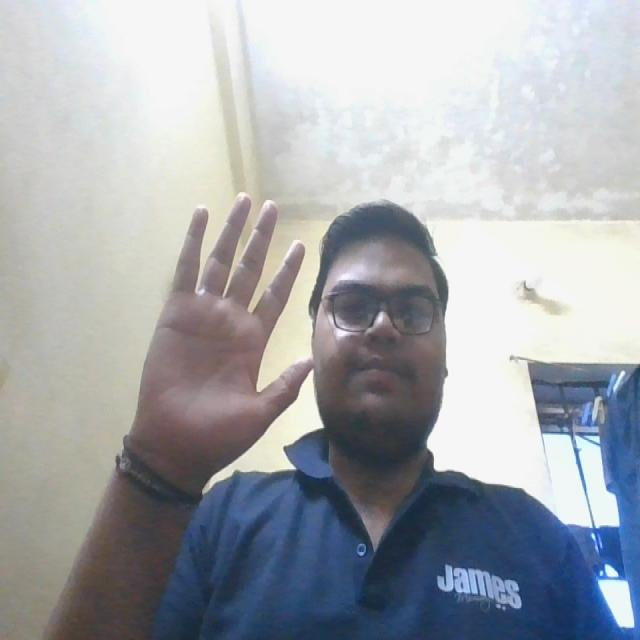Hello: (131, 165, 319, 492)
